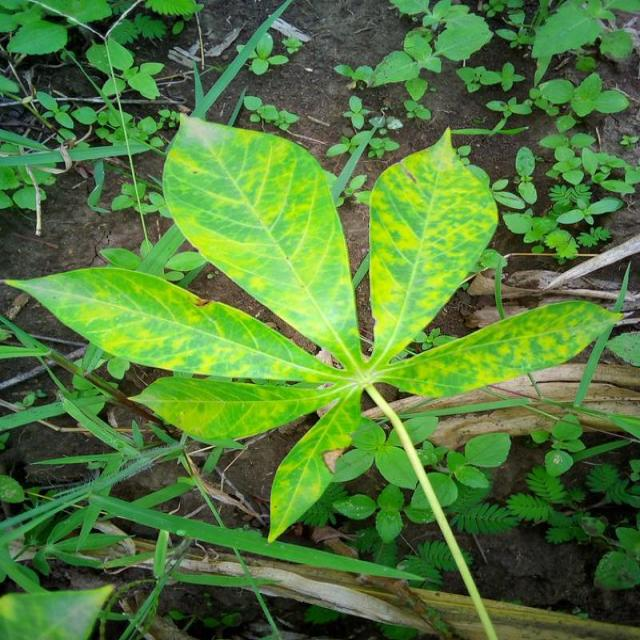cassava leaf: (3, 112, 629, 546), (161, 112, 362, 371), (1, 263, 338, 383), (368, 125, 498, 367)
